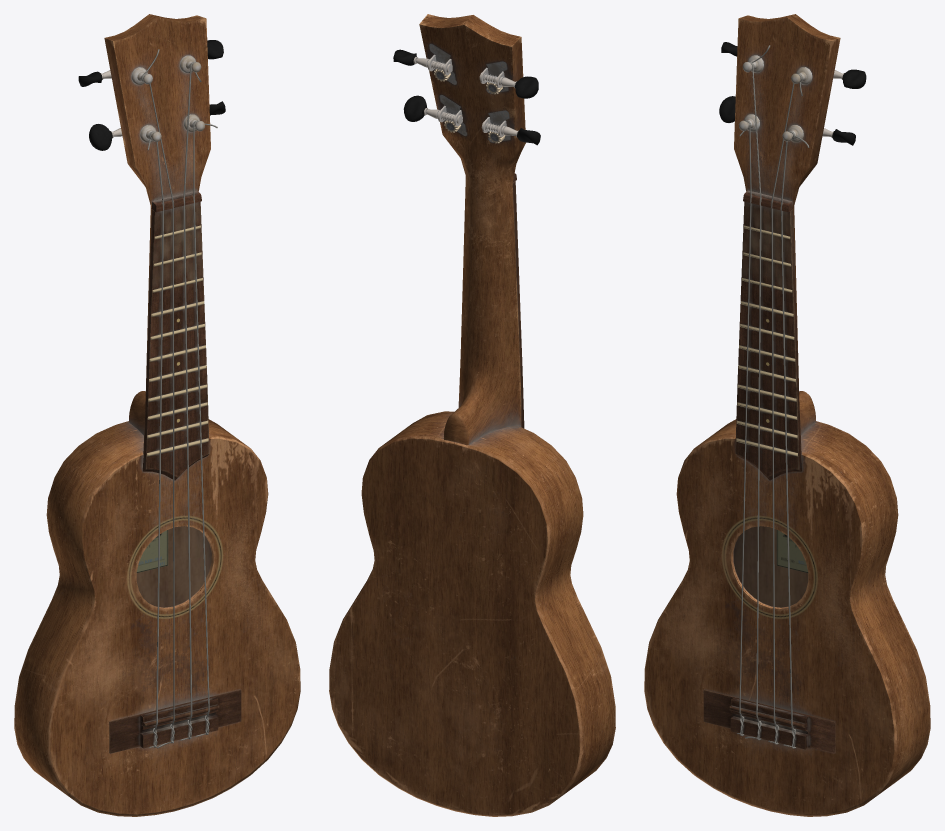
The model's file is Ukulele.fbx.
The picture shows the model from 3 angles, left to right: view 1: azimuth 30°, elevation 25°; view 2: azimuth 150°, elevation 25°; view 3: azimuth 330°, elevation 25°; orthographic projection.
Parts seen in each view (by area): view 1: Ukulele_01; view 2: Ukulele_01; view 3: Ukulele_01.
Part boxes in pixels (x1,y1,x2,y2): Ukulele_01: [14, 14, 300, 816]; Ukulele_01: [329, 14, 615, 816]; Ukulele_01: [644, 14, 930, 816].
Size of the model in its own units: 17.79 by 52.7 by 5.08.
